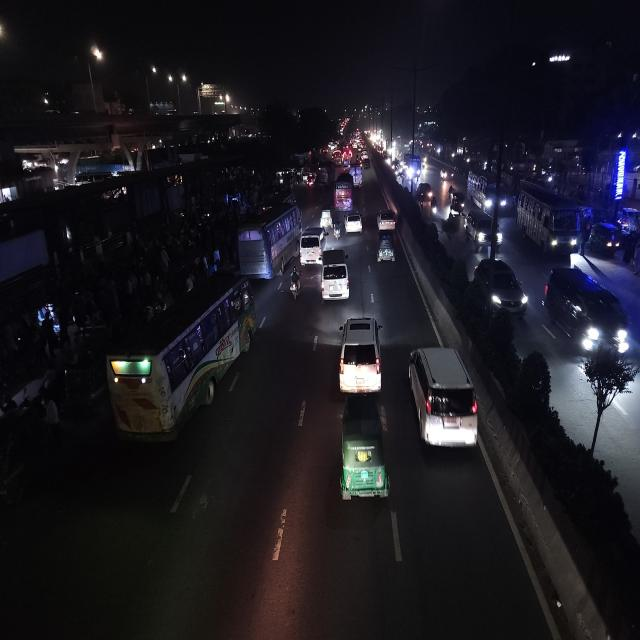bus: (100, 266, 254, 449), (236, 196, 304, 280), (514, 181, 588, 256), (468, 169, 508, 216), (334, 172, 355, 211), (406, 154, 422, 177)
car: (405, 342, 482, 460), (542, 265, 634, 358), (336, 314, 386, 398), (470, 256, 530, 324), (319, 245, 352, 309), (464, 210, 504, 252), (299, 224, 327, 265), (343, 206, 363, 238), (374, 207, 398, 230), (417, 180, 434, 202)
cng: (334, 392, 390, 510), (588, 219, 622, 259), (375, 228, 398, 269), (449, 189, 466, 220), (320, 204, 334, 233)
motorcycle: (287, 265, 303, 305), (332, 210, 342, 241), (428, 194, 439, 220)
truck: (334, 172, 354, 211)
